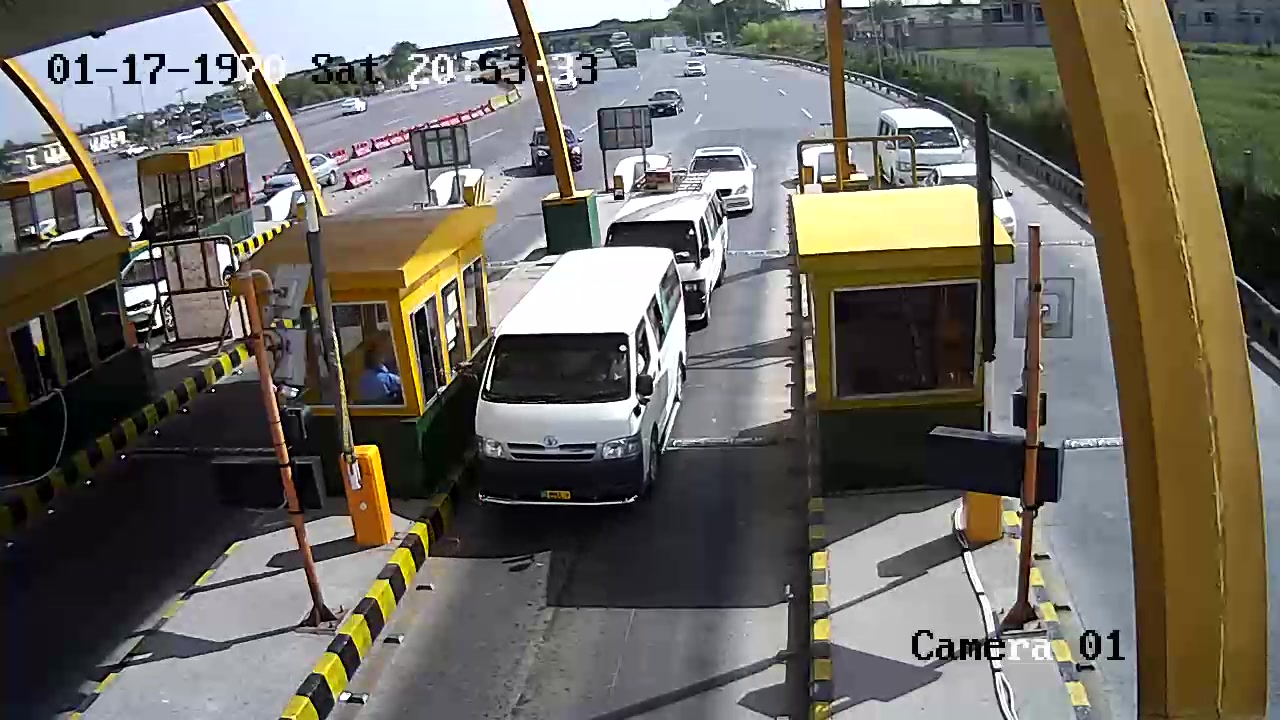F2: (470, 244, 697, 516)
